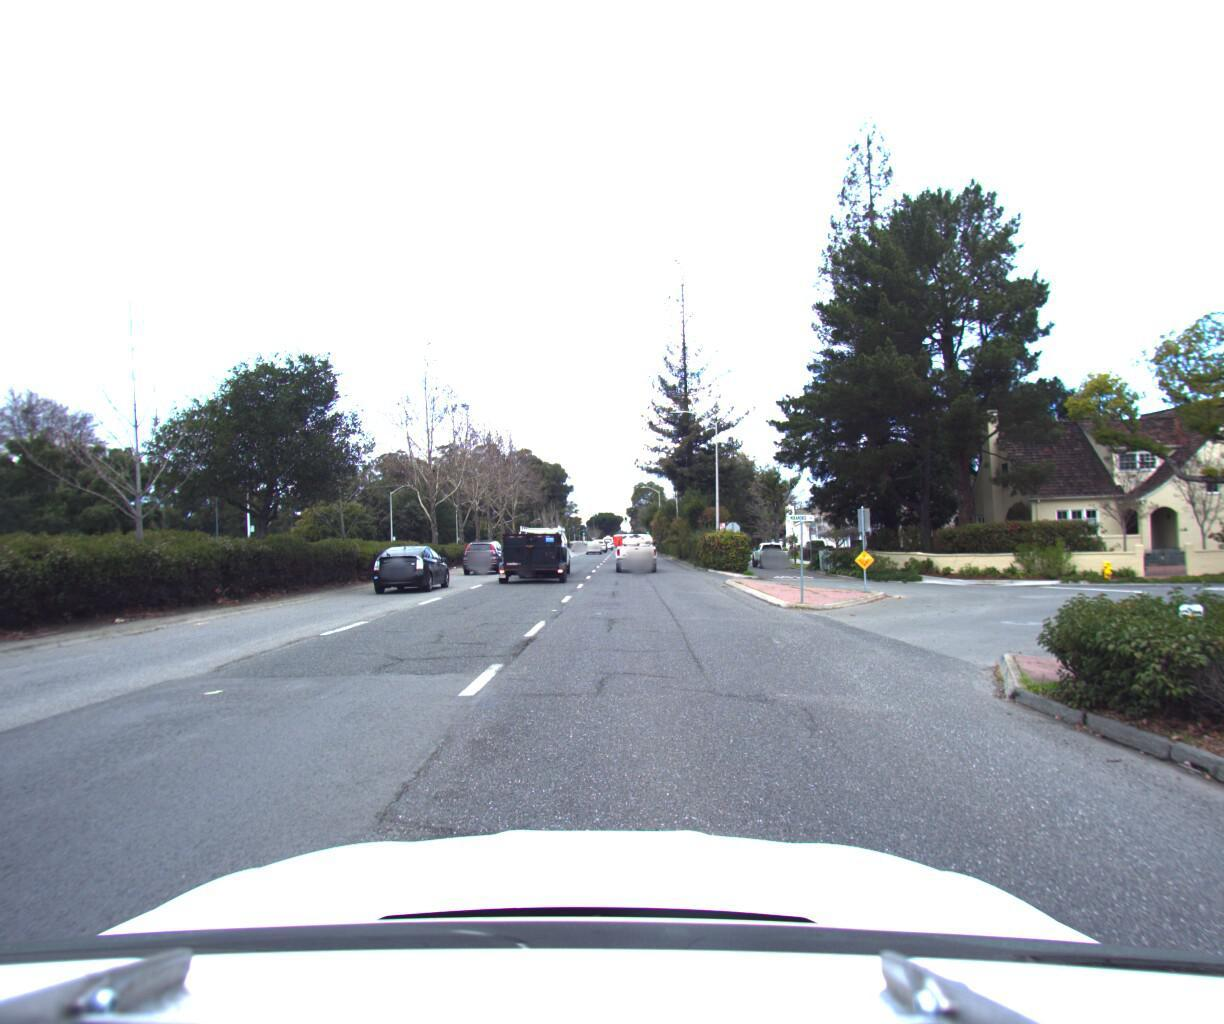car: (494, 511, 575, 579), (371, 536, 453, 587), (610, 520, 658, 566), (460, 530, 508, 566), (751, 531, 791, 559)
